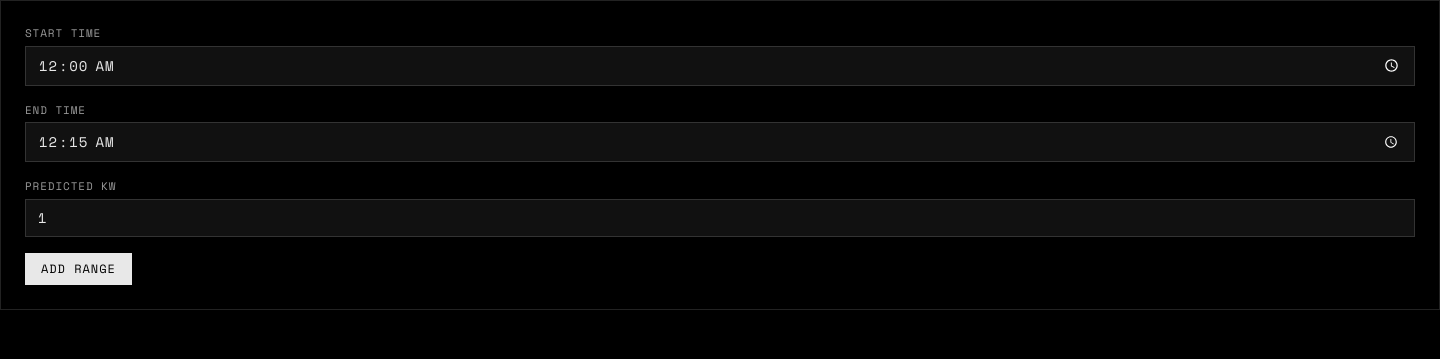
Test case: ConsumptionForm › shows a validation error when predicted_kw is zero or negative
Replace the text in the time field labelled "Start time" with "18:00" at point(720, 66), box [25, 46, 1415, 86]
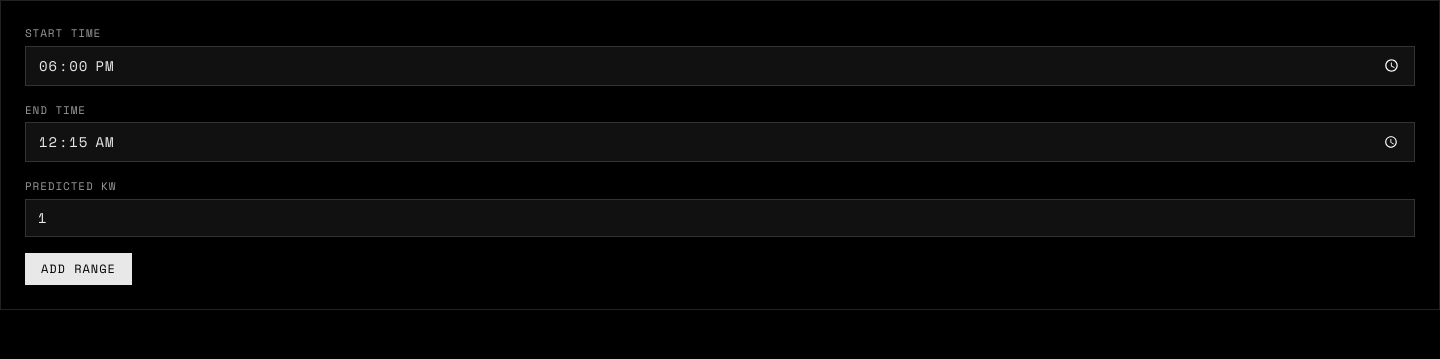
Replace the text in the time field labelled "End time" with "19:00" at point(720, 142), box [25, 122, 1415, 162]
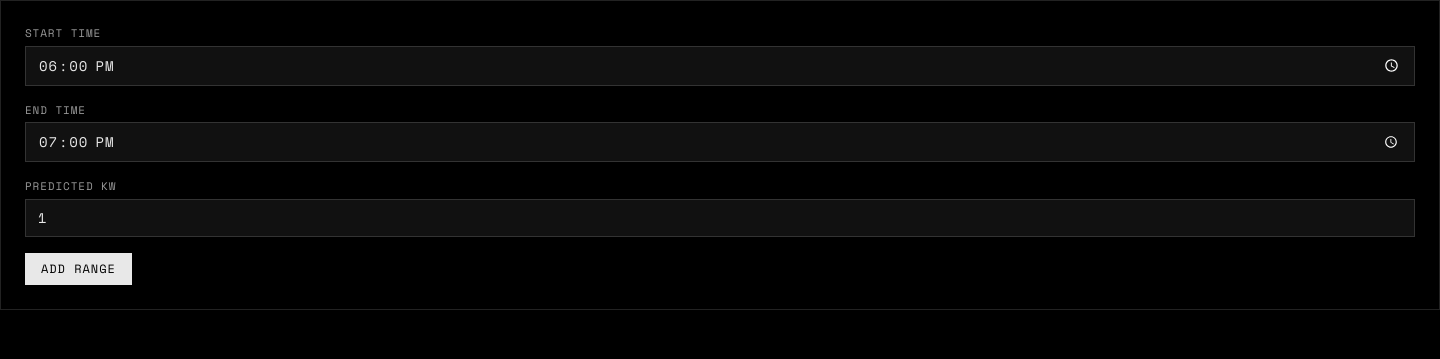
Replace the text in the number field labelled "Predicted kW" with "0" at point(720, 218), box [25, 198, 1415, 236]
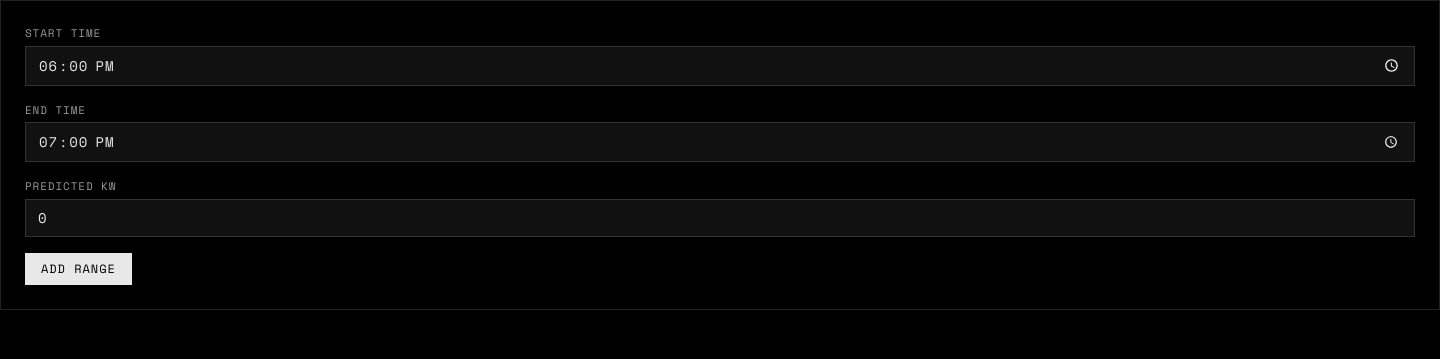
Click the button "Add range".
click(78, 268)  # box [25, 252, 132, 284]
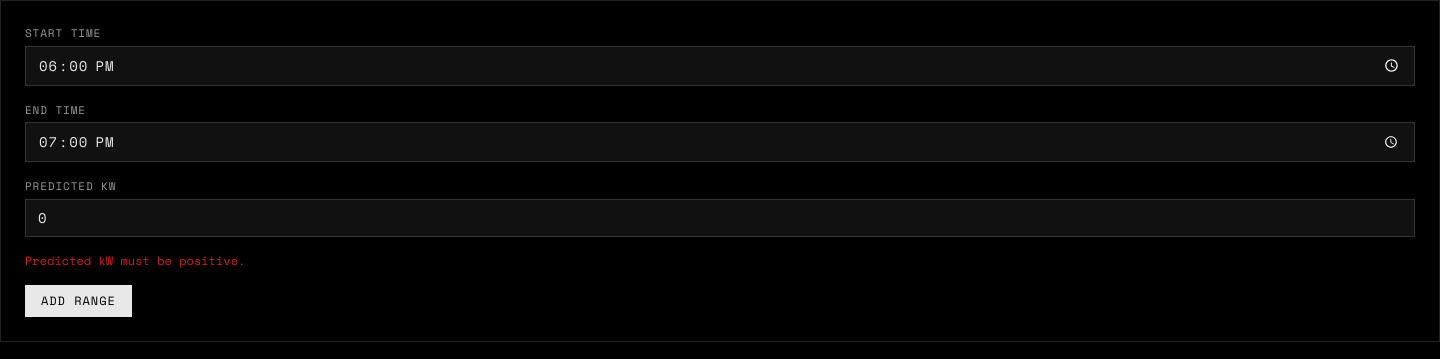
Check: the text "Predicted kW must be positive." is shown, box [25, 252, 245, 268]
